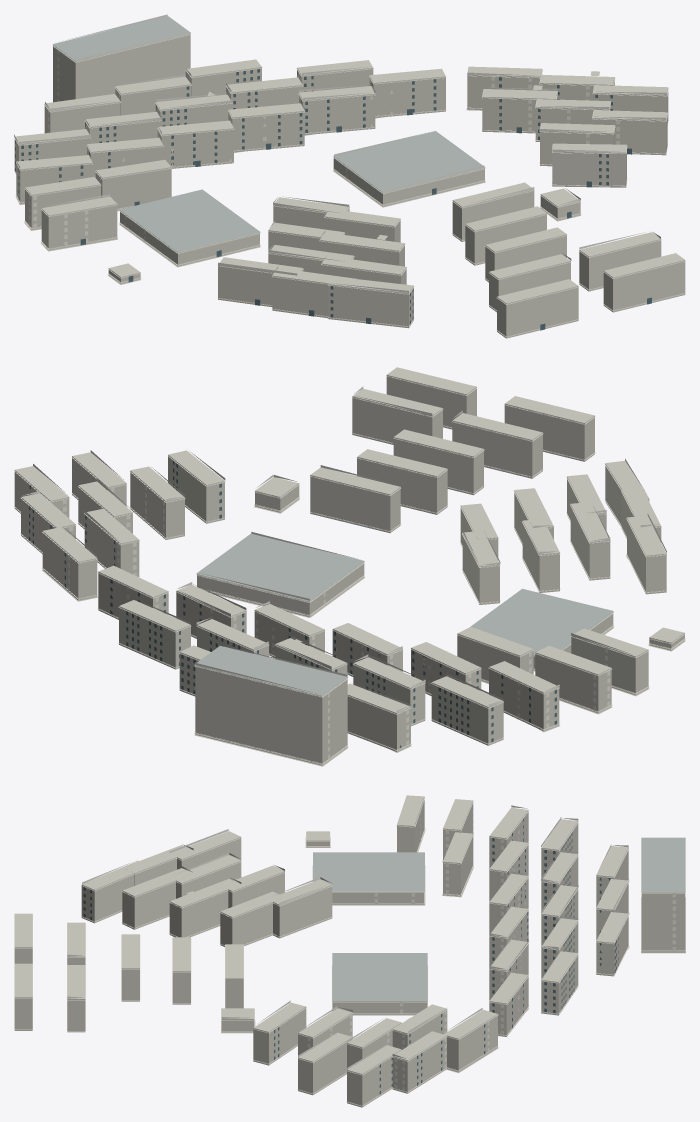
The model's file is shared-03-far.glb.
The picture shows the model from 3 angles, top to bottom: view 1: azimuth 30°, elevation 25°; view 2: azimuth 150°, elevation 25°; view 3: azimuth 270°, elevation 25°; orthographic projection. The views are drawn at different scales.
Parts seen in each view (by area): view 1: Weathered flat roof details.004, Window frames and coping details.004, 留学生公寓.001, Pale limestone details.004, 北区宿舍 · 图示楼栋 41.001, 北区宿舍 · 图示楼栋 40.001, 北区宿舍 · 图示楼栋 34.001, 北区宿舍 · 图示楼栋 17.001, 北区宿舍 · 图示楼栋 25.001, 北区宿舍 · 图示楼栋 14.001, 北区宿舍 · 图示楼栋 13.001, 北区宿舍 · 图示楼栋 12.001 (+38 smaller); view 2: Weathered flat roof details.004, 留学生公寓.001, Window frames and coping details.004, 北区宿舍 · 图示楼栋 35.001, 北区宿舍 · 图示楼栋 38.001, 北区宿舍 · 图示楼栋 40.001, 北区宿舍 · 图示楼栋 39.001, 北区宿舍 · 图示楼栋 36.001, Pale limestone details.004, 北区宿舍 · 图示楼栋 04.001, 北区宿舍 · 图示楼栋 15.001, 北区宿舍 · 图示楼栋 37.001 (+36 smaller); view 3: Weathered flat roof details.004, Window frames and coping details.004, 留学生公寓.001, 北区宿舍 · 图示楼栋 26.001, 北区宿舍 · 图示楼栋 31.001, 北区宿舍 · 图示楼栋 33.001, 北区宿舍 · 图示楼栋 28.001, 北区宿舍 · 图示楼栋 18.001, 北区宿舍 · 图示楼栋 25.001, 北区宿舍 · 图示楼栋 24.001, 北区宿舍 · 图示楼栋 19.001, 北区宿舍 · 图示楼栋 22.001 (+38 smaller).
Part boxes in pixels (x1=…): Weathered flat roof details.004: x1=52, y1=16, x2=580, y2=252; Window frames and coping details.004: x1=14, y1=34, x2=685, y2=337; 留学生公寓.001: x1=53, y1=33, x2=190, y2=102; Pale limestone details.004: x1=14, y1=14, x2=666, y2=292; 北区宿舍 · 图示楼栋 41.001: x1=603, y1=253, x2=685, y2=312; 北区宿舍 · 图示楼栋 40.001: x1=497, y1=279, x2=578, y2=338; 北区宿舍 · 图示楼栋 34.001: x1=328, y1=279, x2=413, y2=328; 北区宿舍 · 图示楼栋 17.001: x1=41, y1=196, x2=117, y2=250; 北区宿舍 · 图示楼栋 25.001: x1=552, y1=143, x2=626, y2=187; 北区宿舍 · 图示楼栋 14.001: x1=369, y1=68, x2=445, y2=117; 北区宿舍 · 图示楼栋 13.001: x1=299, y1=86, x2=375, y2=134; 北区宿舍 · 图示楼栋 12.001: x1=228, y1=103, x2=304, y2=152; Weathered flat roof details.004: x1=194, y1=533, x2=613, y2=696; 留学生公寓.001: x1=195, y1=665, x2=347, y2=765; Window frames and coping details.004: x1=14, y1=375, x2=684, y2=764; 北区宿舍 · 图示楼栋 35.001: x1=310, y1=467, x2=400, y2=532; 北区宿舍 · 图示楼栋 38.001: x1=452, y1=413, x2=542, y2=478; 北区宿舍 · 图示楼栋 40.001: x1=504, y1=396, x2=594, y2=461; 北区宿舍 · 图示楼栋 39.001: x1=352, y1=388, x2=442, y2=444; 北区宿舍 · 图示楼栋 36.001: x1=357, y1=449, x2=447, y2=514; Pale limestone details.004: x1=22, y1=386, x2=666, y2=712; 北区宿舍 · 图示楼栋 04.001: x1=431, y1=676, x2=503, y2=745; 北区宿舍 · 图示楼栋 15.001: x1=535, y1=645, x2=611, y2=713; 北区宿舍 · 图示楼栋 37.001: x1=393, y1=429, x2=483, y2=495; Weathered flat roof details.004: x1=221, y1=837, x2=685, y2=1018; Window frames and coping details.004: x1=14, y1=797, x2=685, y2=1106; 留学生公寓.001: x1=641, y1=892, x2=685, y2=952; 北区宿舍 · 图示楼栋 26.001: x1=273, y1=879, x2=332, y2=938; 北区宿舍 · 图示楼栋 31.001: x1=169, y1=879, x2=240, y2=937; 北区宿舍 · 图示楼栋 33.001: x1=122, y1=868, x2=193, y2=929; 北区宿舍 · 图示楼栋 28.001: x1=220, y1=891, x2=284, y2=946; 北区宿舍 · 图示楼栋 18.001: x1=444, y1=1009, x2=497, y2=1072; 北区宿舍 · 图示楼栋 25.001: x1=253, y1=1002, x2=306, y2=1065; 北区宿舍 · 图示楼栋 24.001: x1=298, y1=1032, x2=352, y2=1095; 北区宿舍 · 图示楼栋 19.001: x1=392, y1=1031, x2=446, y2=1093; 北区宿舍 · 图示楼栋 22.001: x1=347, y1=1045, x2=401, y2=1107.
Bounding box in the file's own units: 291 × 30.59 × 296.
